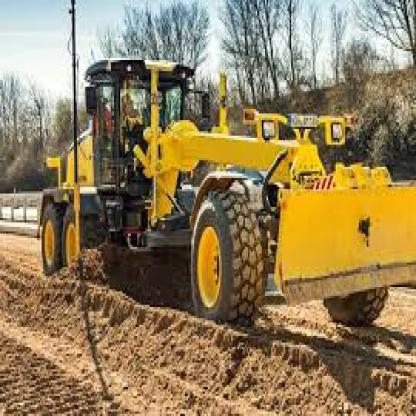bull_dozer/loader/grader: (35, 49, 414, 336)
